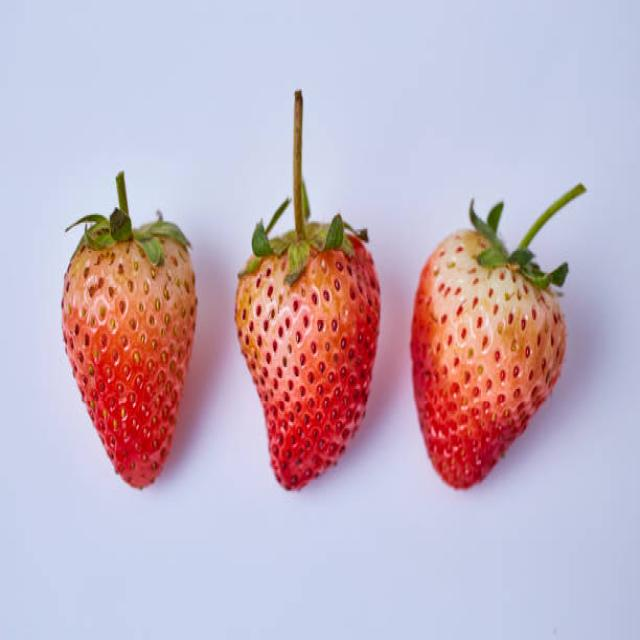Healthy Fruit: (412, 233, 566, 493), (234, 227, 380, 490), (62, 231, 199, 489)
